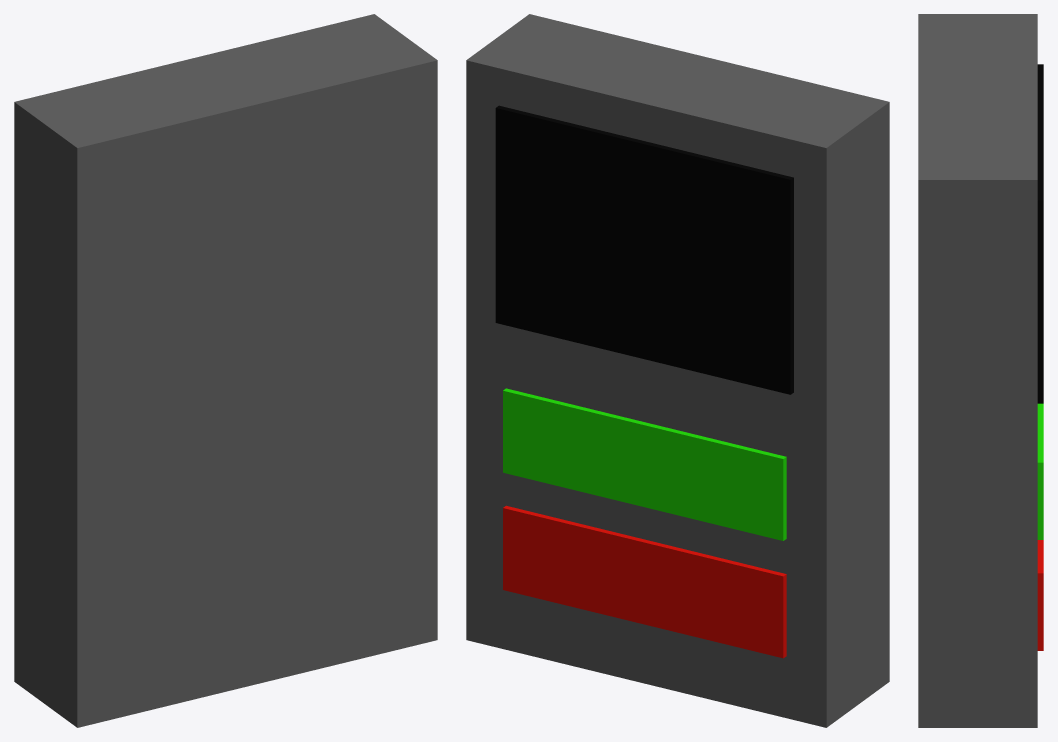
File: Keypad.fbx
3 renders of one model, left to right at view 1: azimuth 30°, elevation 25°; view 2: azimuth 150°, elevation 25°; view 3: azimuth 270°, elevation 25°, orthographic. The views are drawn at different scales.
Parts seen in each view (by area): view 1: Keypad; view 2: Keypad; view 3: Keypad.
Part boxes in pixels (<box>): Keypad: <box>14,14,437,727</box>; Keypad: <box>466,14,889,727</box>; Keypad: <box>918,14,1043,727</box>.
Bounding box in the file's own units: 29.18 × 44.88 × 9.32.
